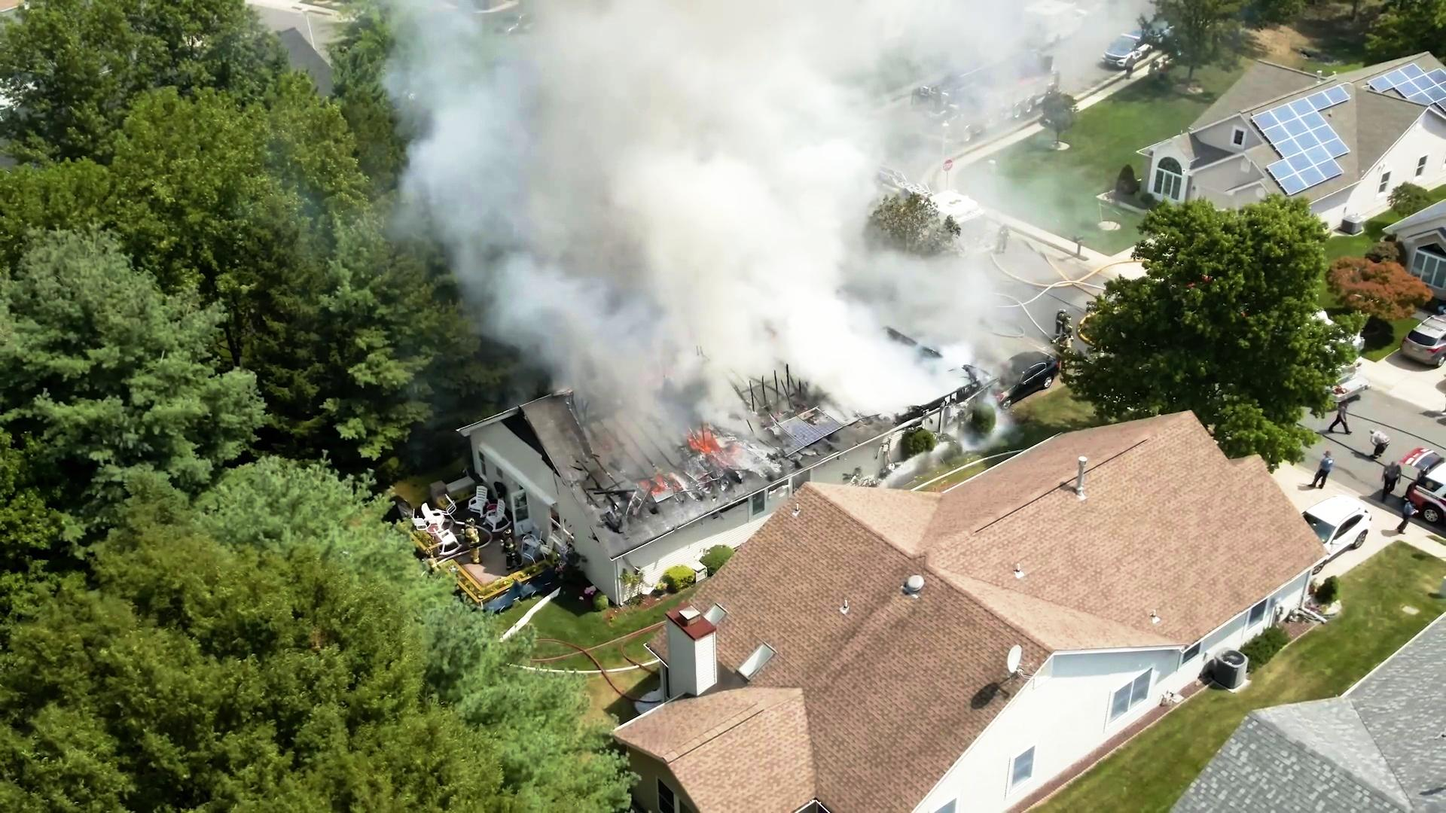smoke: (485, 0, 1002, 305), (443, 86, 975, 322), (605, 138, 976, 423)
